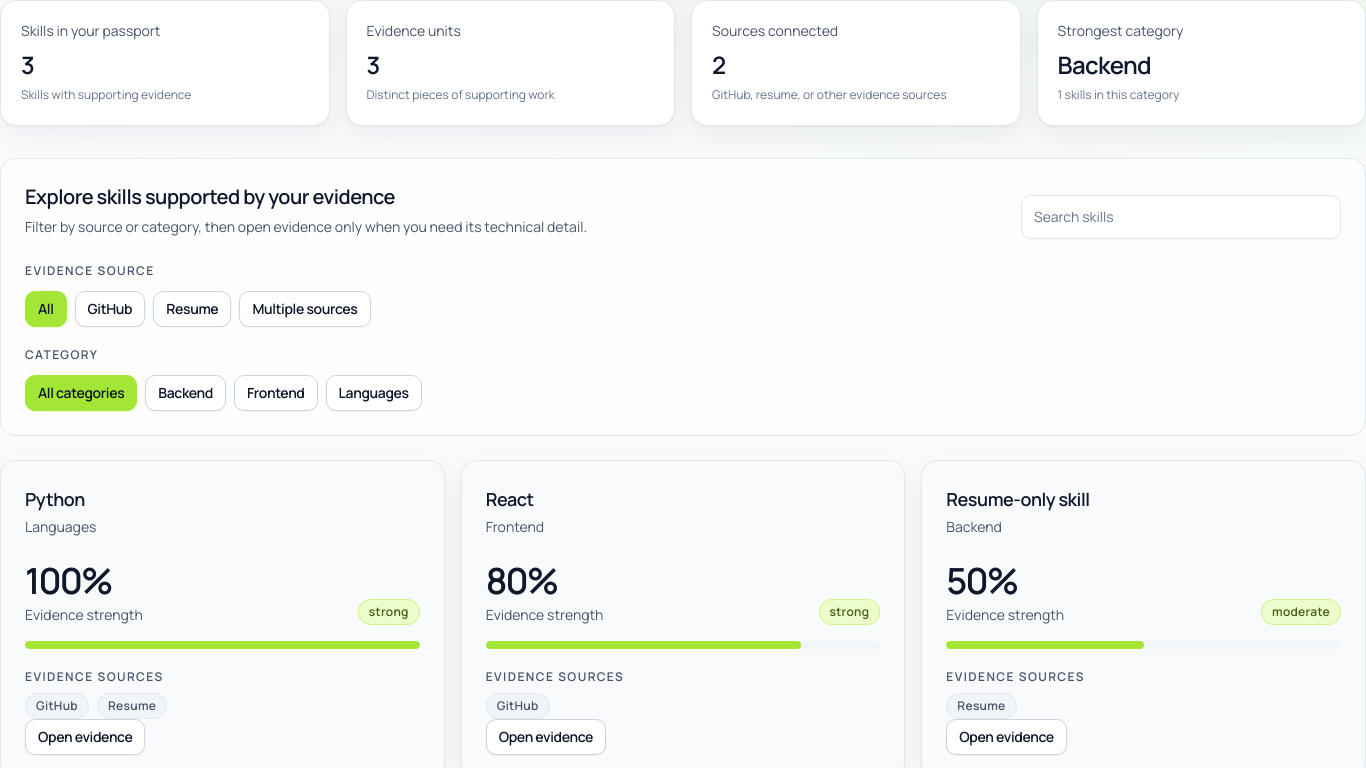
SkillPassportWorkspace › filters GitHub skills and hides resume-only skills
Click the button "GitHub" at [110, 309], box [75, 291, 145, 327]
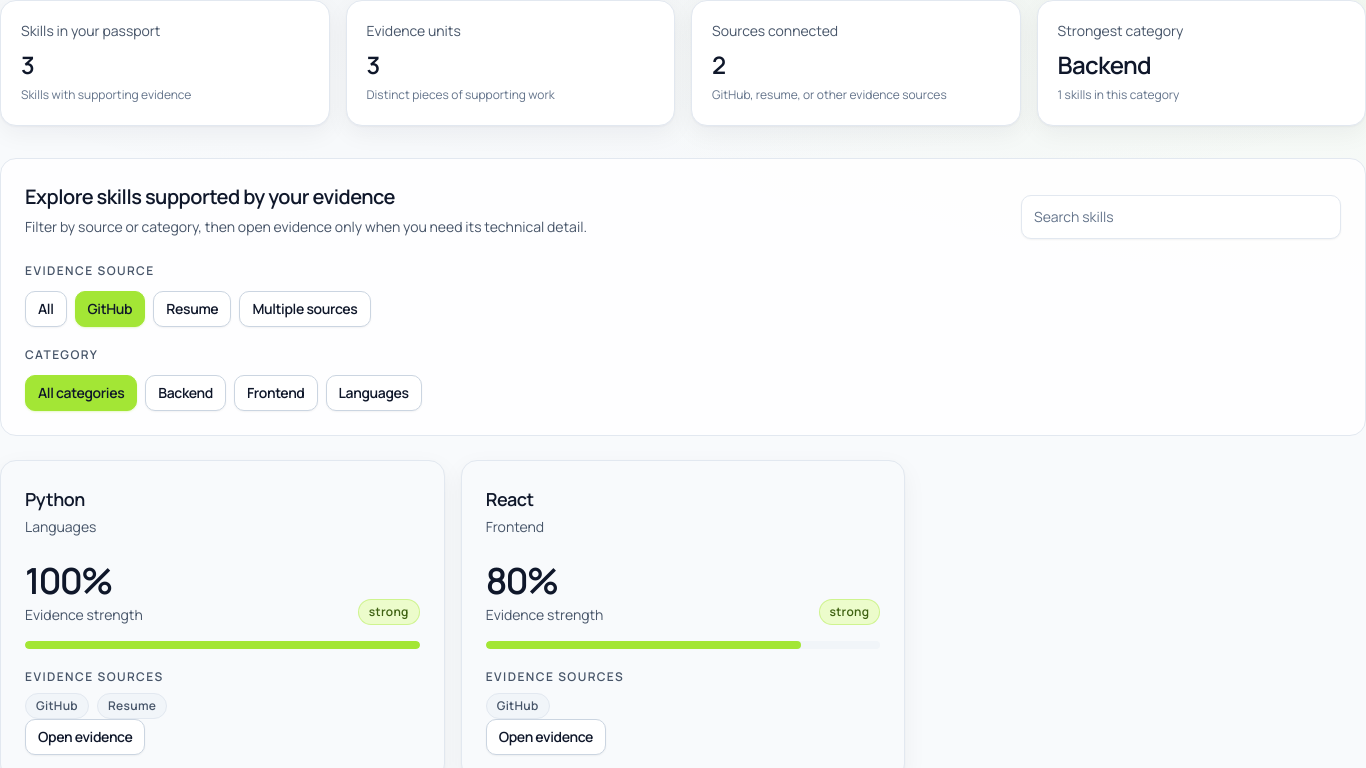
Expected: the heading "Python" is shown, [25, 487, 85, 511]
Result: the heading "Resume-only skill" is gone
